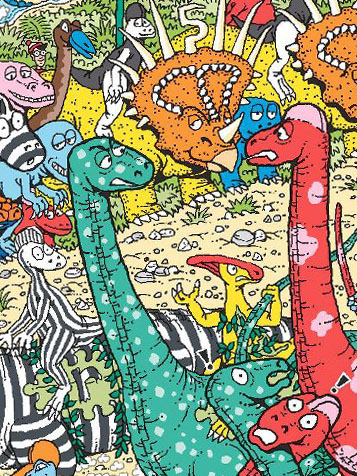waldo: (26, 41, 48, 68)
